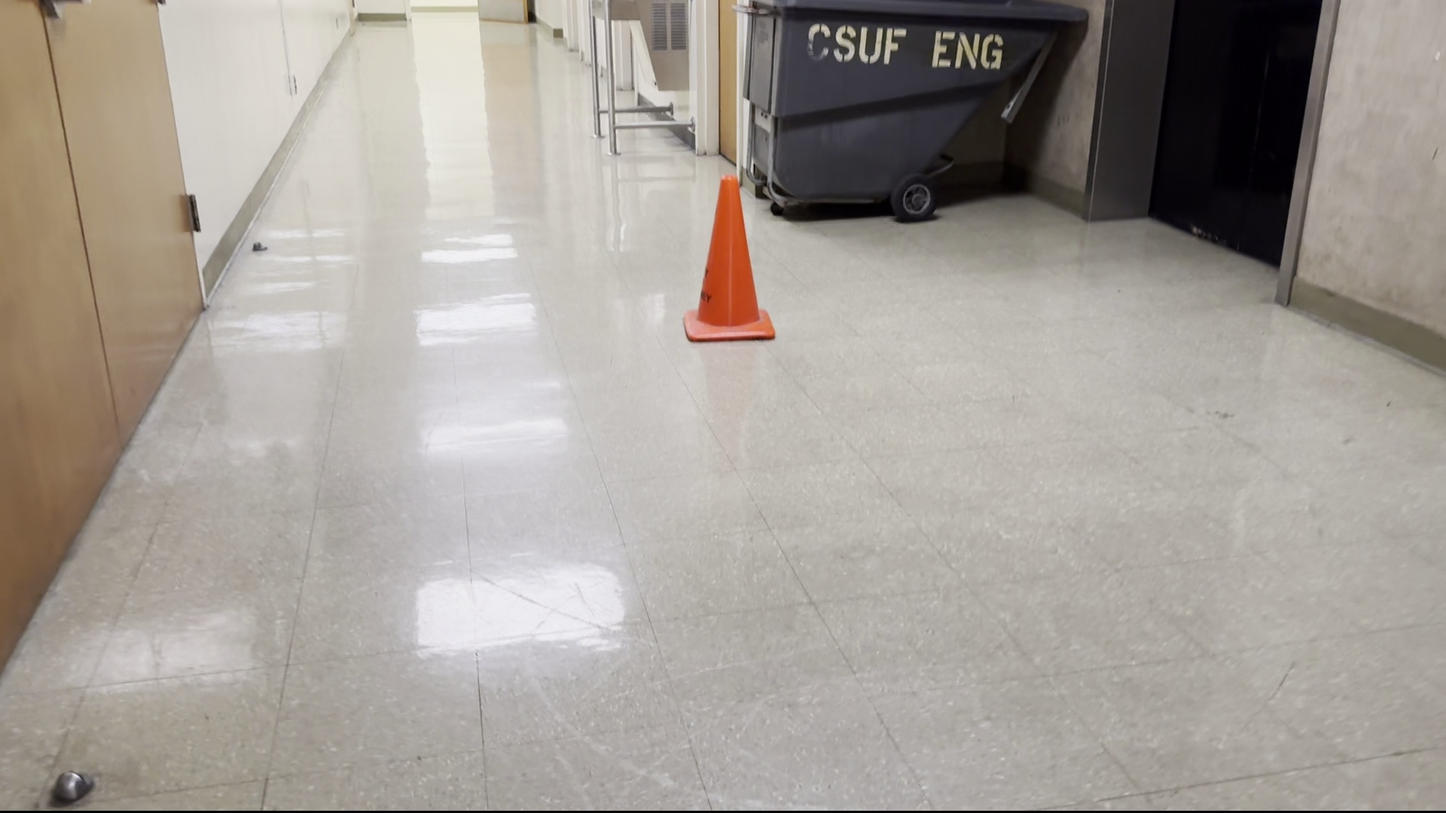traffic_cone: (682, 174, 776, 342)
